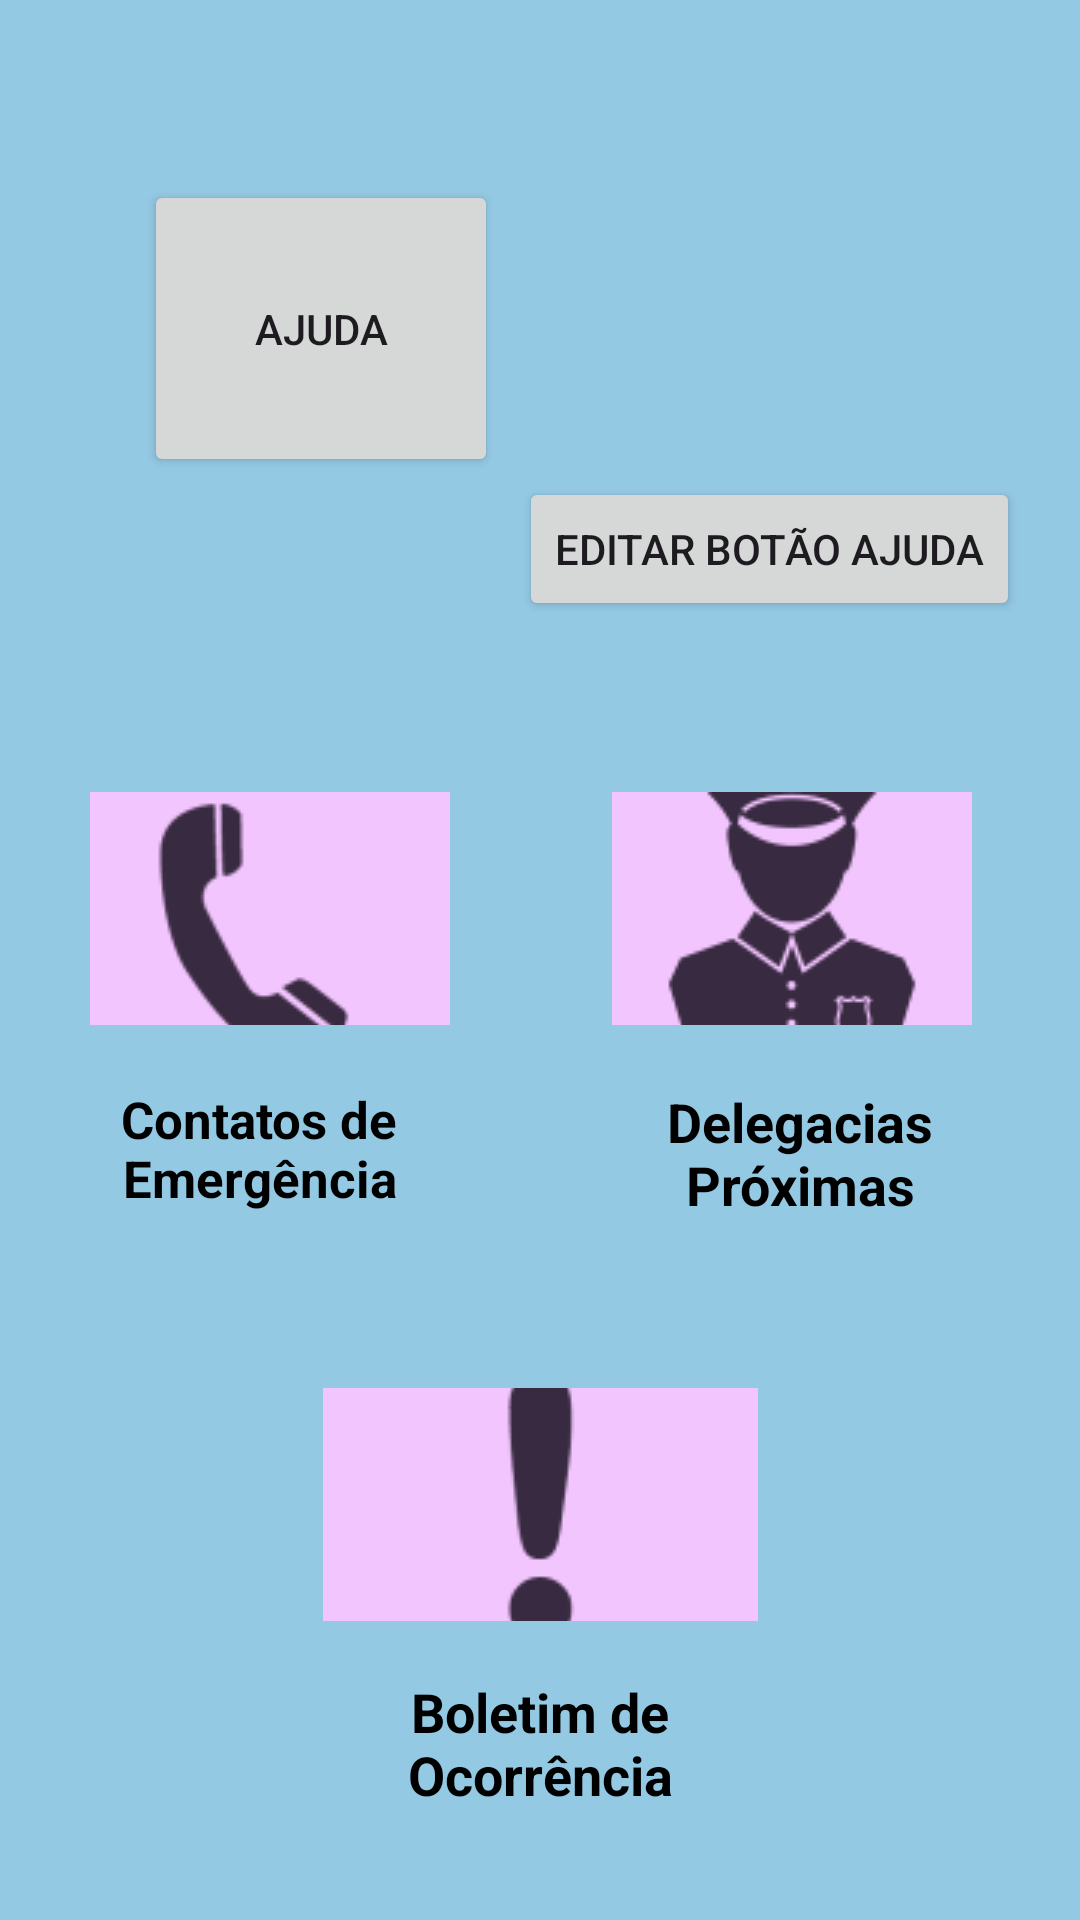

Named icons in this screenshot (1080*1920) and their centers, [x,y]:
policia: [792,908]
telefone: [270,908]
